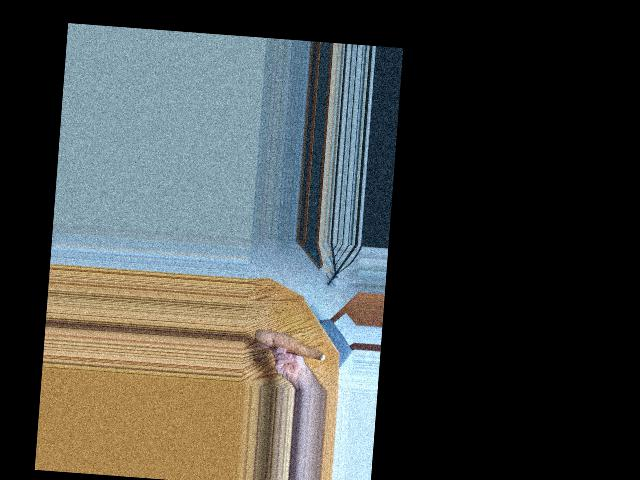sweet_potato: (254, 326, 327, 364)
